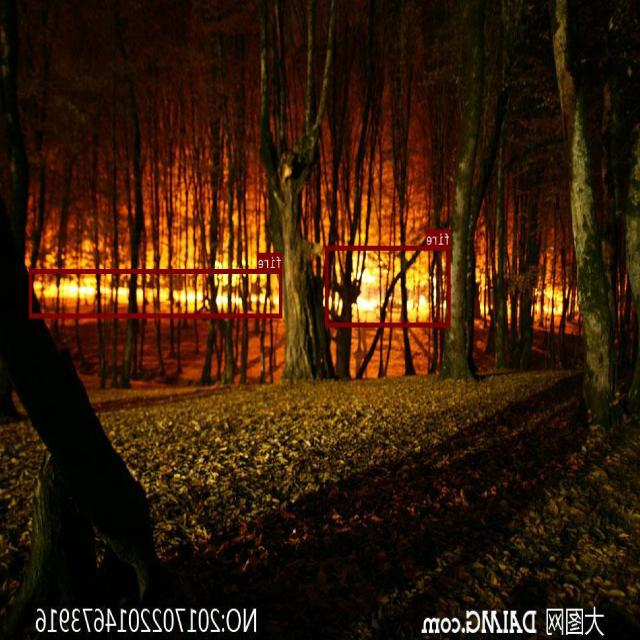fire: (31, 268, 282, 317), (326, 245, 451, 326)
